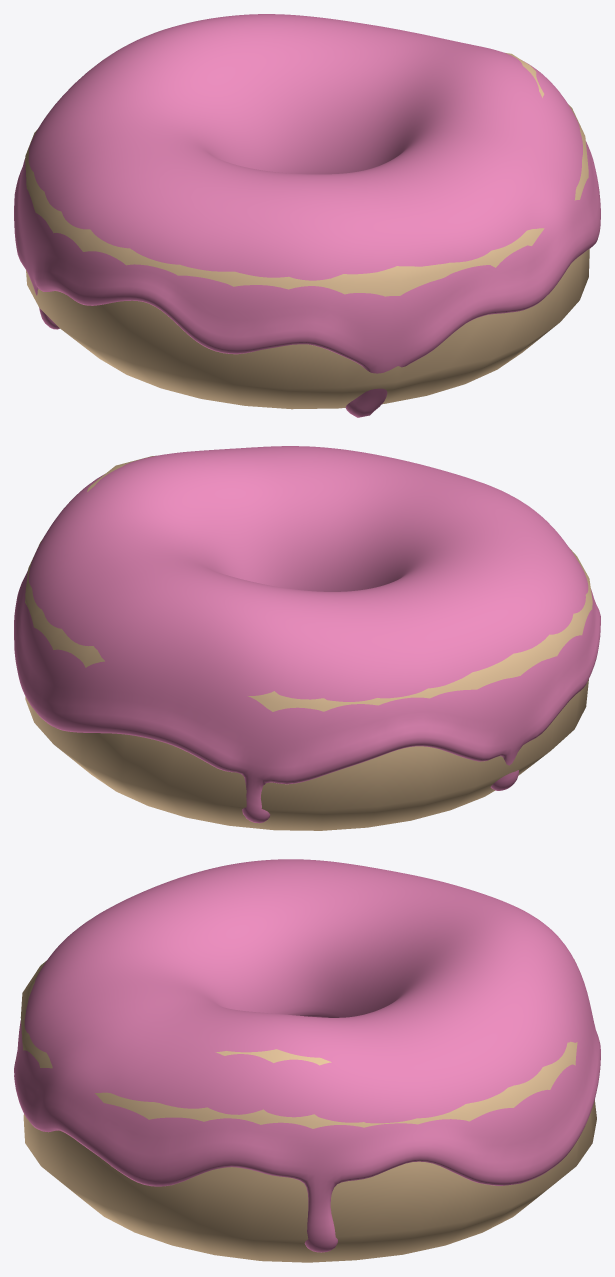
File: dounut-sm.glb
The picture shows the model from 3 angles, top to bottom: view 1: azimuth 30°, elevation 25°; view 2: azimuth 150°, elevation 25°; view 3: azimuth 270°, elevation 25°; orthographic projection. The views are drawn at different scales.
Parts seen in each view (by area): view 1: icing, donut; view 2: icing, donut; view 3: icing, donut.
Part boxes in pixels (left/top/right/bottom): icing: left=14, top=14, right=600, bottom=417; donut: left=25, top=53, right=589, bottom=409; icing: left=14, top=446, right=600, bottom=823; donut: left=25, top=455, right=592, bottom=830; icing: left=14, top=859, right=600, bottom=1252; donut: left=20, top=959, right=596, bottom=1262.
Bounding box in the file's own units: 1.27 × 0.5423 × 1.23.
